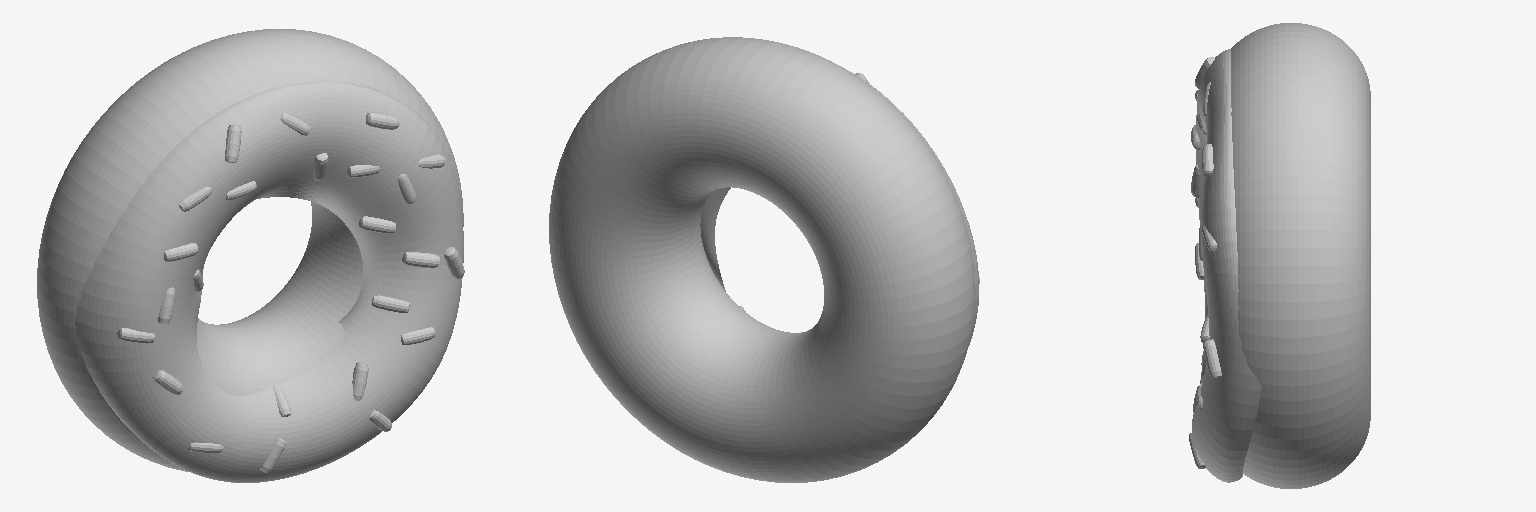
Rendered from Donut5.obj.
The picture shows the model from 3 angles: view 1: azimuth 30°, elevation 25°; view 2: azimuth 150°, elevation 25°; view 3: azimuth 270°, elevation 25°; orthographic projection.
Parts seen in each view (by area): view 1: mesh02, mesh01; view 2: mesh01, mesh02; view 3: mesh01, mesh02.
Part boxes in pixels (x1,y1,x2,y2): mesh02: (75, 81, 463, 482); mesh01: (37, 29, 463, 471); mesh01: (549, 37, 975, 482); mesh02: (700, 71, 978, 344); mesh01: (1231, 23, 1370, 488); mesh02: (1192, 49, 1261, 482).
Size of the model in its own units: 171 by 171 by 66.36.